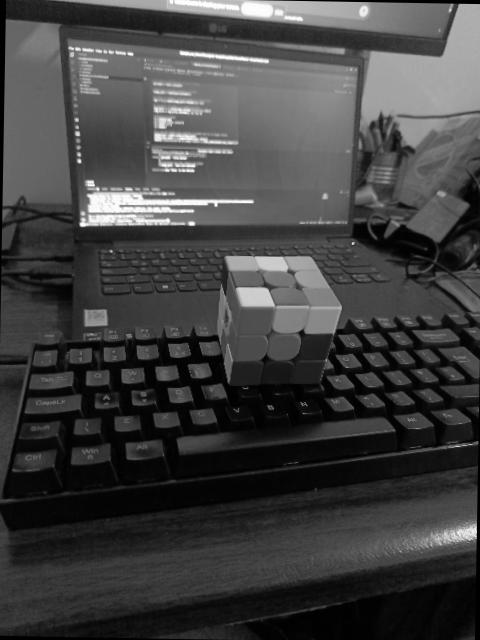rubik: (214, 252, 342, 387)
